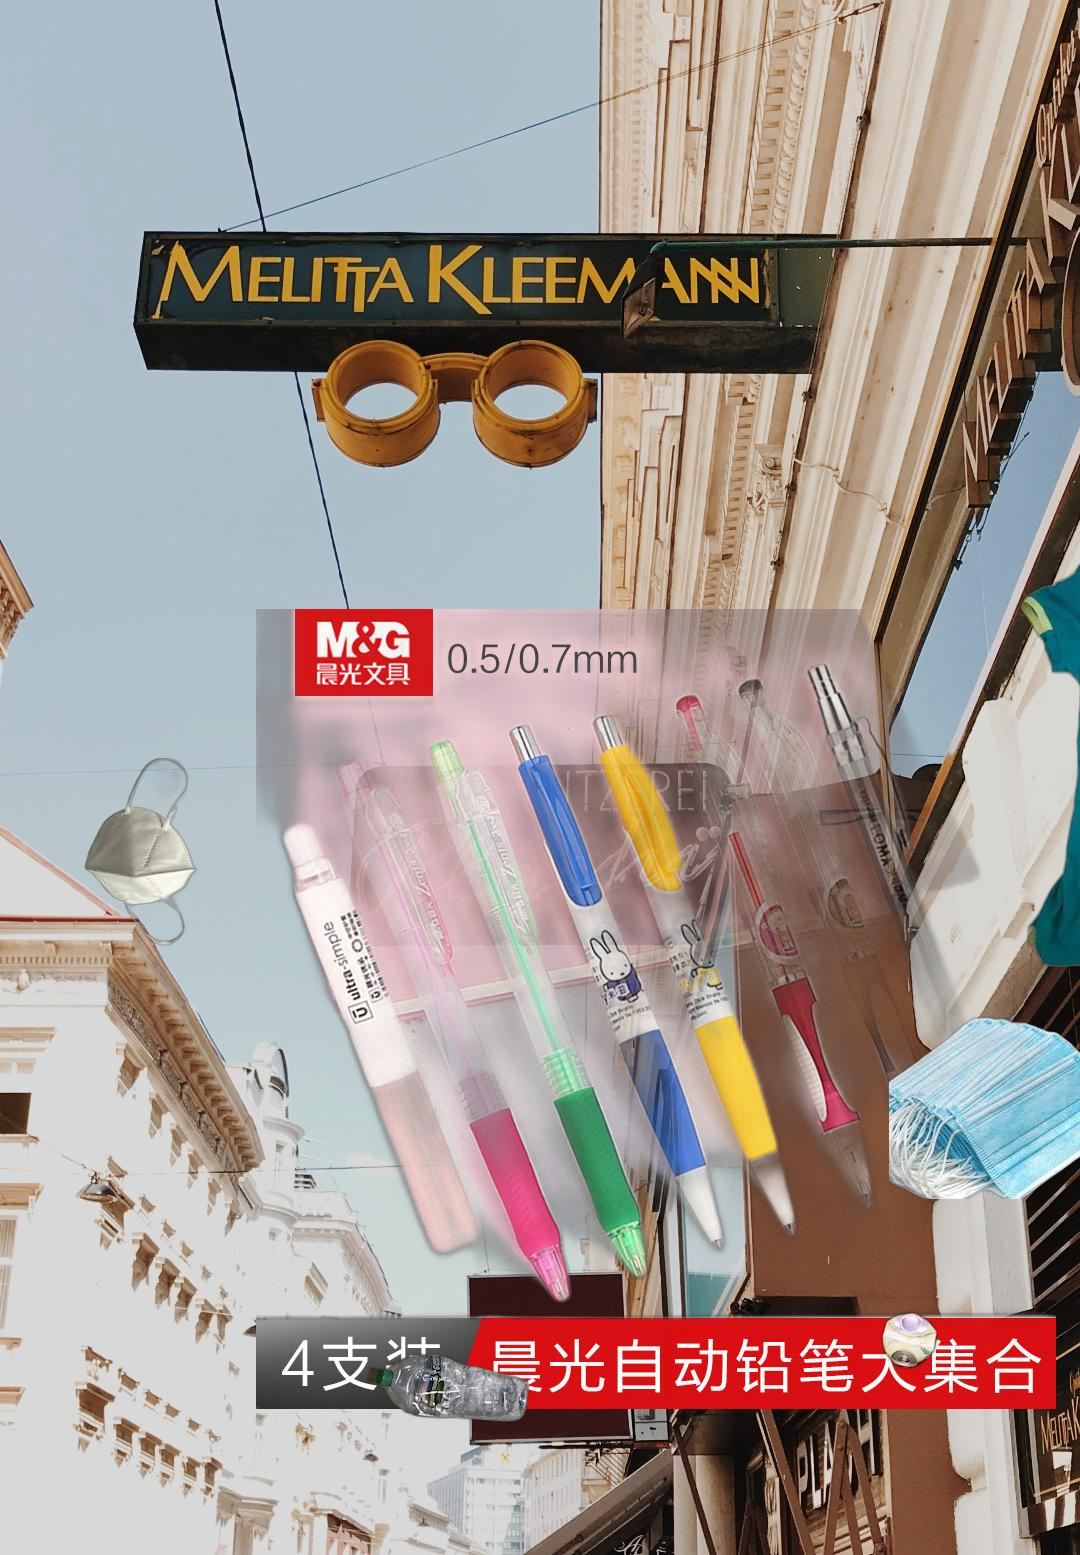biological: (1004, 1437, 1080, 1555)
clothes: (1017, 508, 1080, 980)
metal-cans: (878, 1306, 942, 1373)
penholder: (256, 609, 1056, 1408)
plastic-bottles: (362, 1351, 534, 1425)
trash: (889, 1016, 1080, 1199), (82, 755, 200, 948)
trashbox-cardboard: (288, 1527, 1080, 1555)
